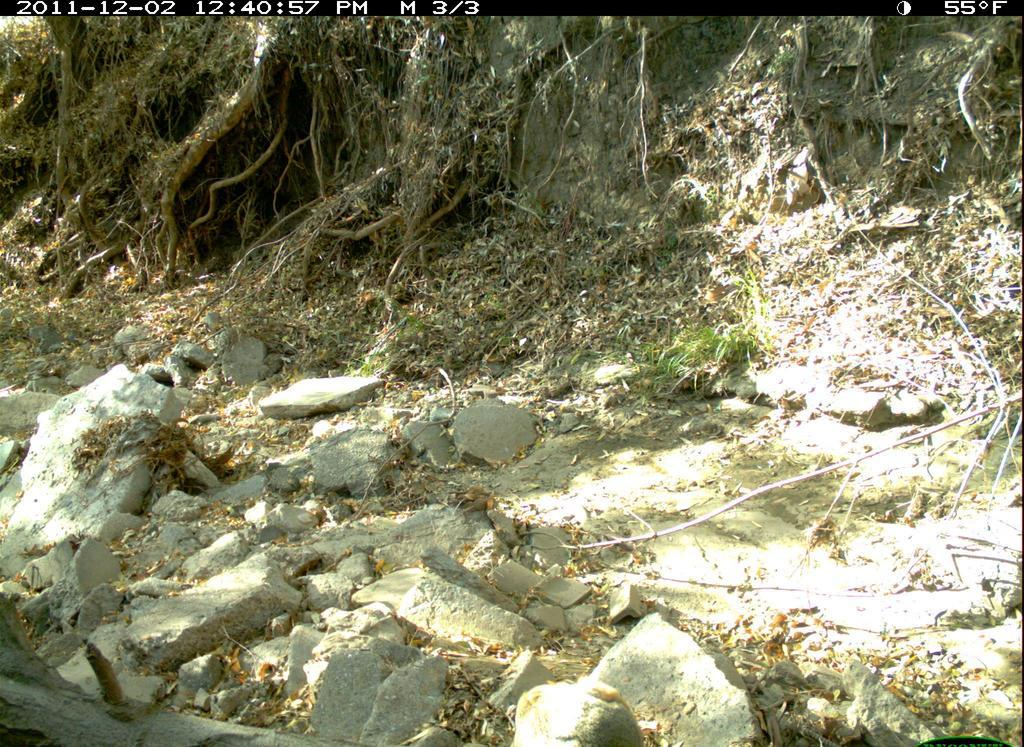squirrel: (505, 676, 651, 747)
